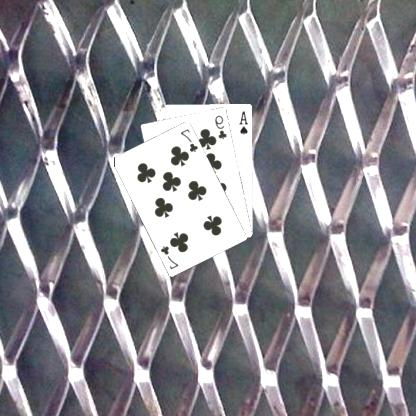7C: (179, 126, 201, 153), (160, 243, 181, 270)
9C: (214, 112, 230, 140)
AS: (238, 108, 252, 136)
